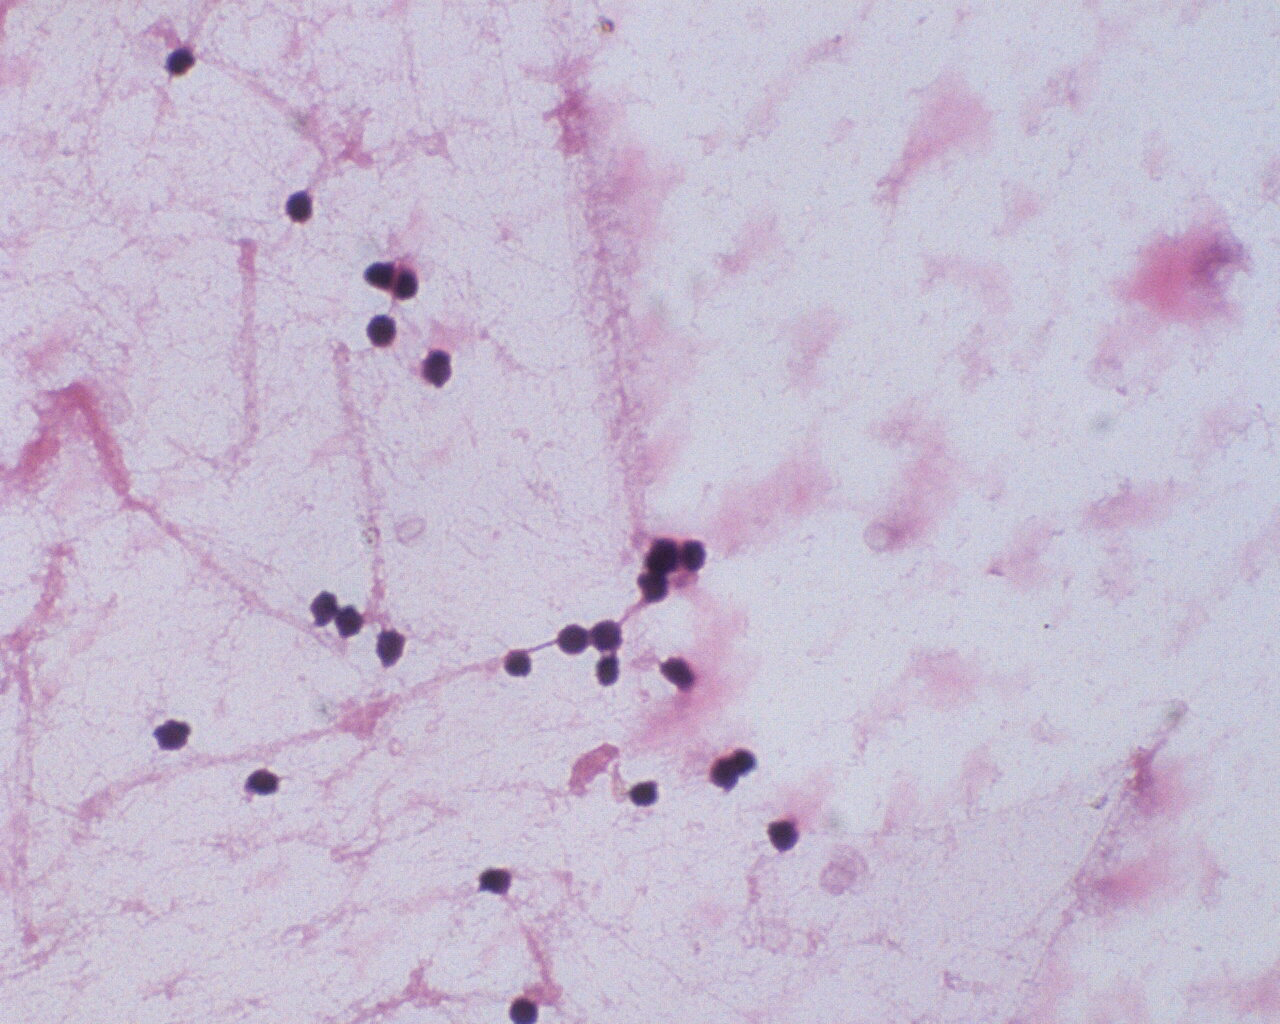lymph: (360, 308, 408, 351), (762, 812, 807, 856), (498, 639, 542, 683), (243, 761, 288, 802), (476, 859, 518, 904), (280, 188, 323, 228), (553, 621, 594, 658), (623, 774, 666, 810), (329, 601, 366, 642), (157, 43, 196, 78)
